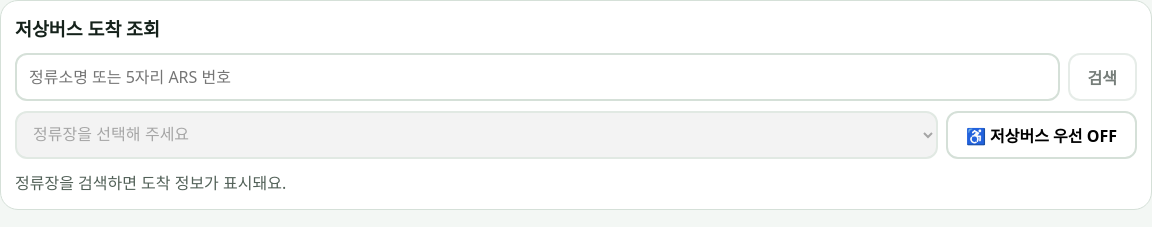
저상버스 도착 상태 › 검색 후 도착이 없으면 빈 결과 안내를 구분한다
Type "서면" into the field named "버스 정류장 검색" at {"x": 537, "y": 77}, box [15, 53, 1060, 101]
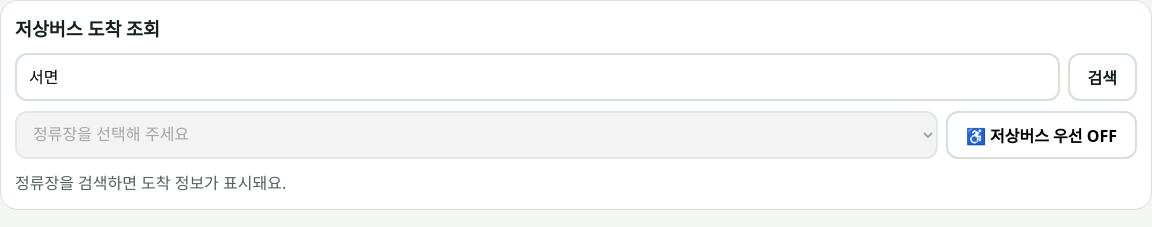
Click the button "검색" at {"x": 1102, "y": 77}, box [1068, 53, 1137, 101]
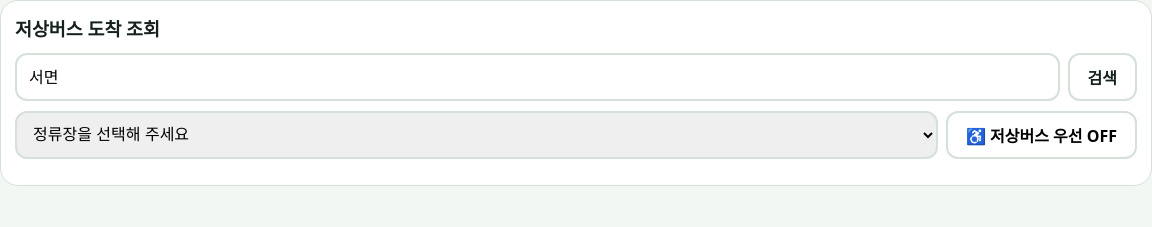
Select "서면역 · stop-1" in the dropdown named "정류장 선택" at {"x": 476, "y": 135}, box [15, 111, 938, 159]
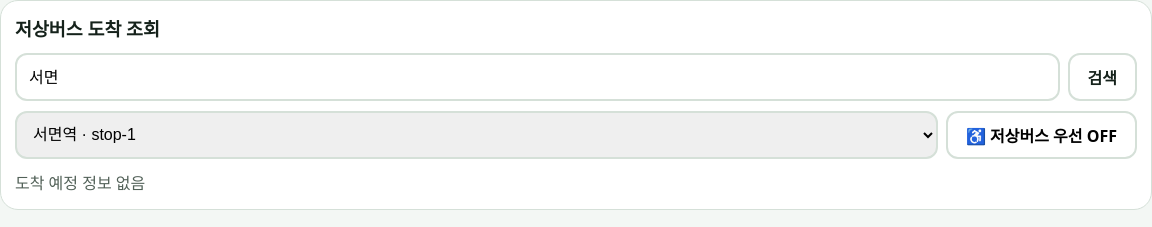
Expected: the list item "정류장을 검색하면 도착 정보가 표시돼요." is not shown
Result: the list item "도착 예정 정보 없음" is shown at [15, 172, 145, 194]
